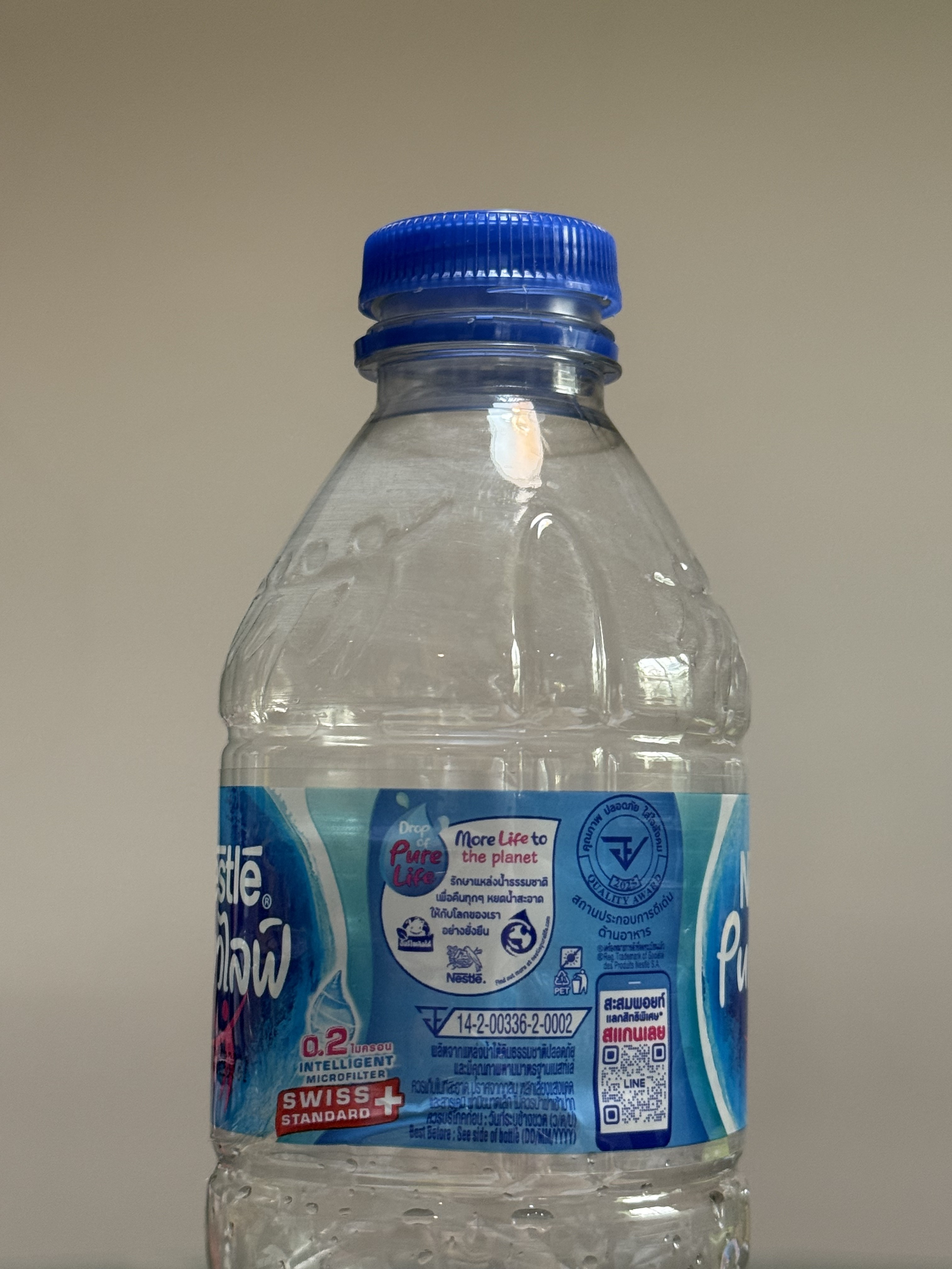half_cap: (349, 203, 627, 378)
